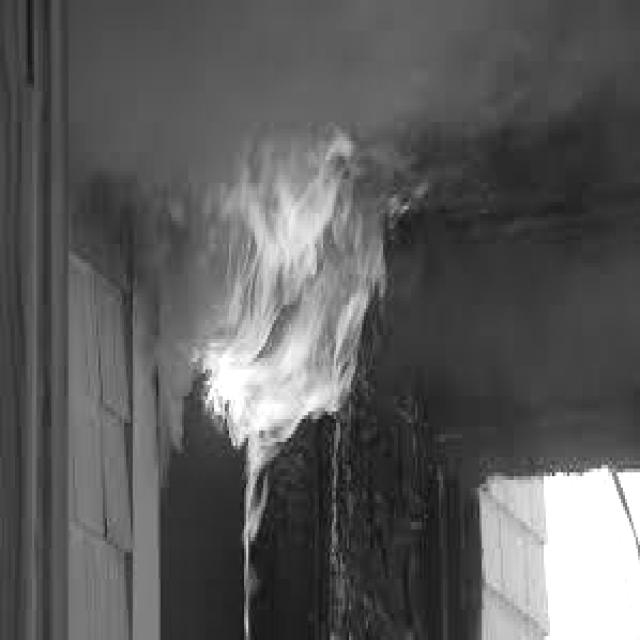fire: (182, 118, 430, 465)
